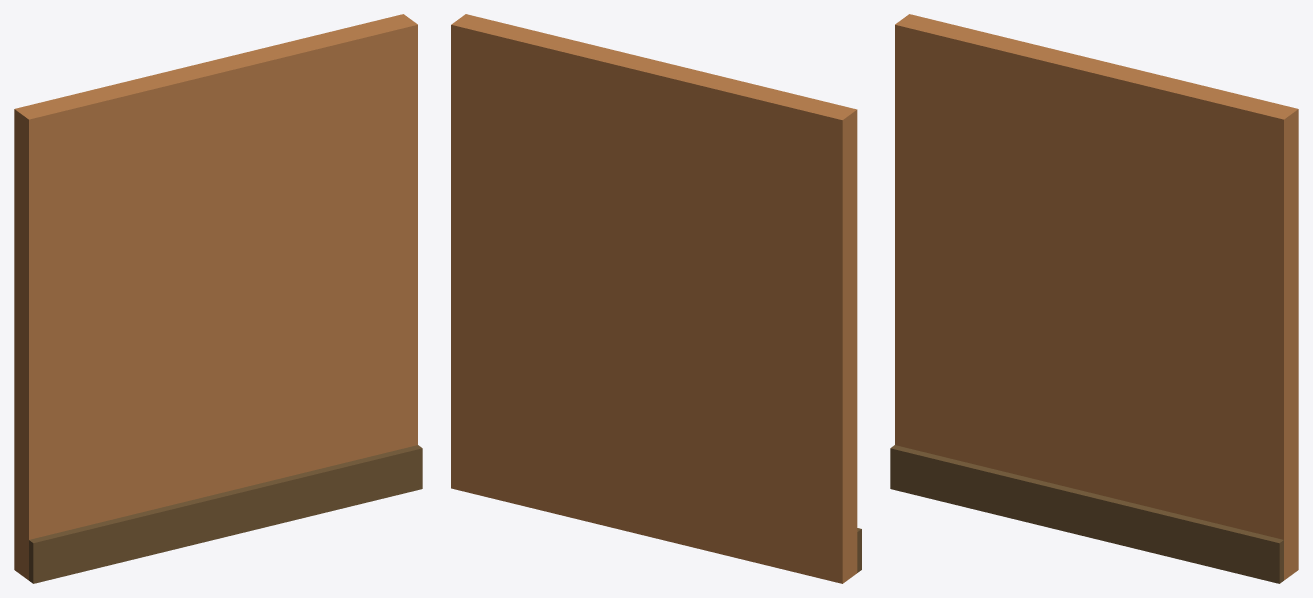
Rendered from C_Wall_Medium.fbx.
3 views of the same model, side by side, from view 1: azimuth 30°, elevation 25°; view 2: azimuth 150°, elevation 25°; view 3: azimuth 330°, elevation 25° (orthographic).
Parts seen in each view (by area): view 1: C_Wall_Medium; view 2: C_Wall_Medium; view 3: C_Wall_Medium.
Part boxes in pixels (x1=…): C_Wall_Medium: x1=14, y1=14, x2=422, y2=583; C_Wall_Medium: x1=451, y1=14, x2=861, y2=583; C_Wall_Medium: x1=890, y1=14, x2=1298, y2=583.
Size of the model in its own units: 2000 by 170 by 2264.
